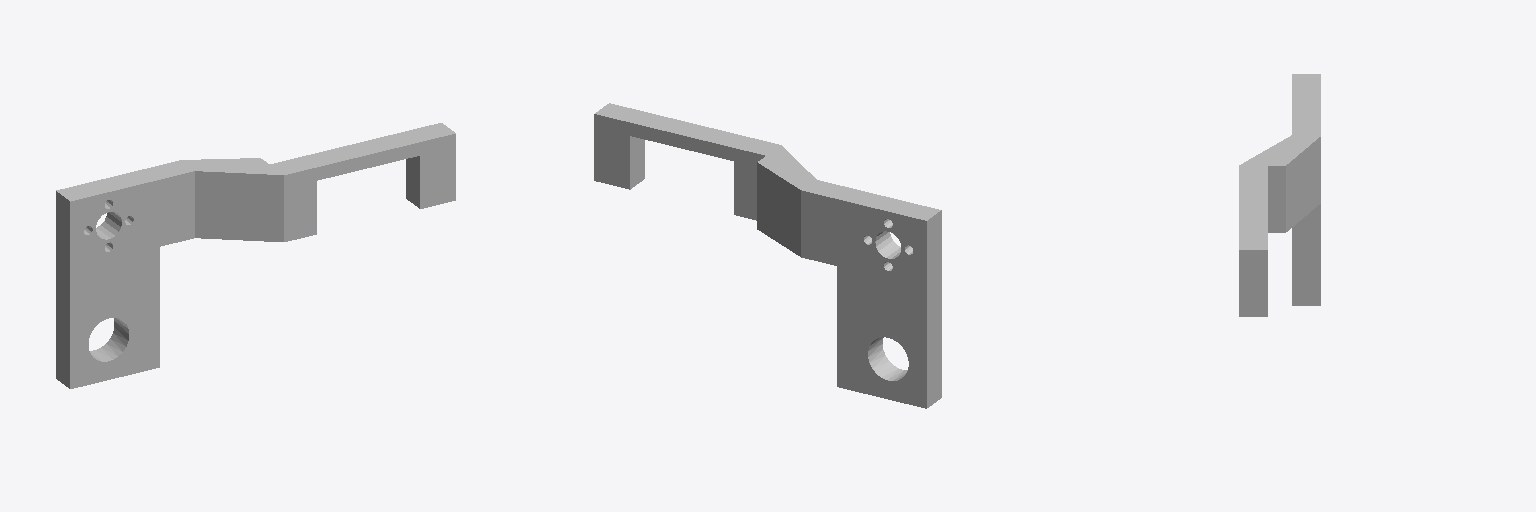
File: Скоба.obj
3 views of the same model, side by side, from view 1: azimuth 30°, elevation 25°; view 2: azimuth 150°, elevation 25°; view 3: azimuth 270°, elevation 25° (orthographic).
Parts seen in each view (by area): view 1: Твердое тело1; view 2: Твердое тело1; view 3: Твердое тело1.
Part boxes in pixels (x1,y1,x2,y2): Твердое тело1: (56,123,455,388); Твердое тело1: (594,103,941,408); Твердое тело1: (1239,74,1320,316).
Size of the model in its own units: 140 by 70 by 28.